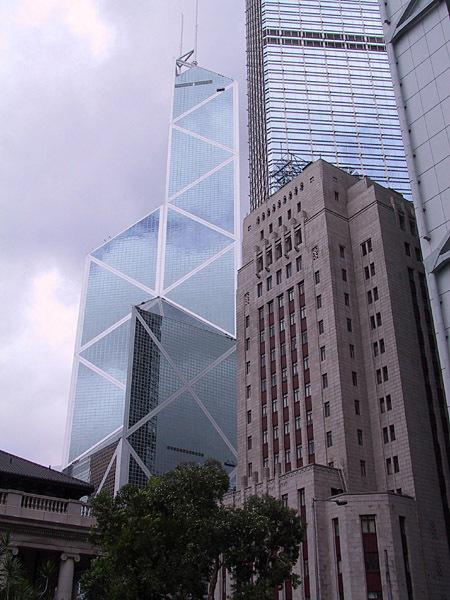building: (63, 0, 244, 600), (240, 158, 450, 600), (248, 0, 450, 434), (0, 447, 99, 600)
